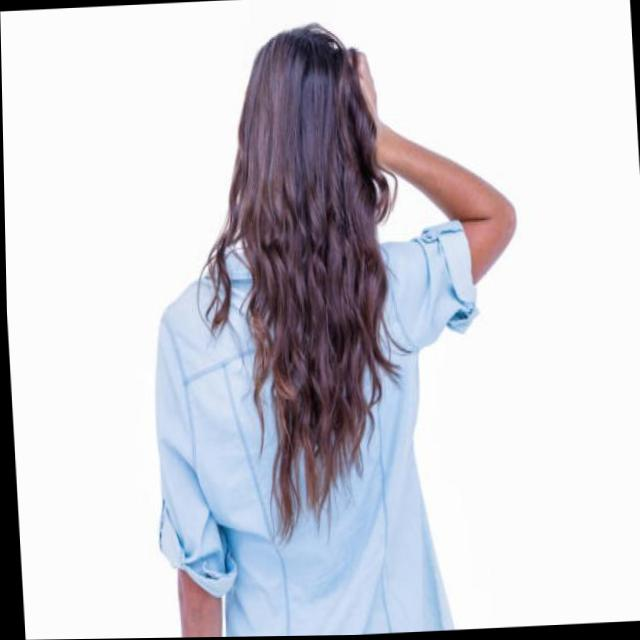no helmet: (211, 13, 406, 462)
